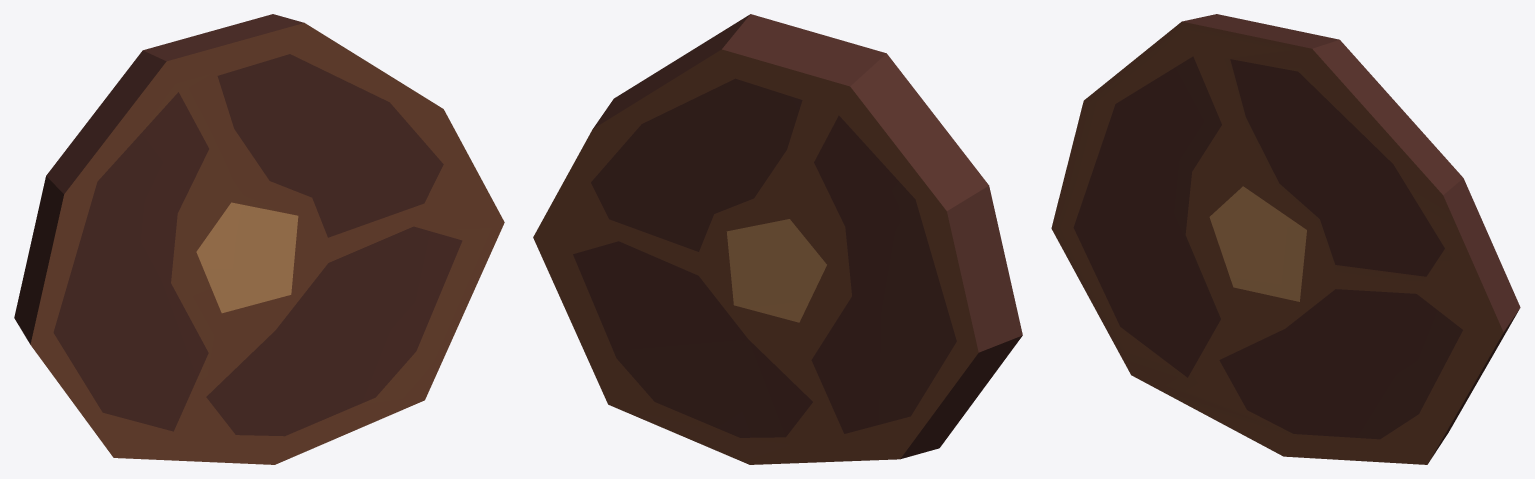
File: icon_meat.fbx
The picture shows the model from 3 angles, left to right: view 1: azimuth 30°, elevation 25°; view 2: azimuth 150°, elevation 25°; view 3: azimuth 330°, elevation 25°; orthographic projection. The views are drawn at different scales.
Visible parts, largest first — view 1: icon_meat; view 2: icon_meat; view 3: icon_meat.
Boxes of the visible parts, x1=… form: icon_meat: x1=14, y1=14, x2=504, y2=464; icon_meat: x1=533, y1=14, x2=1022, y2=464; icon_meat: x1=1051, y1=14, x2=1520, y2=464.
Size of the model in its own units: 38.67 by 33.88 by 4.5.
